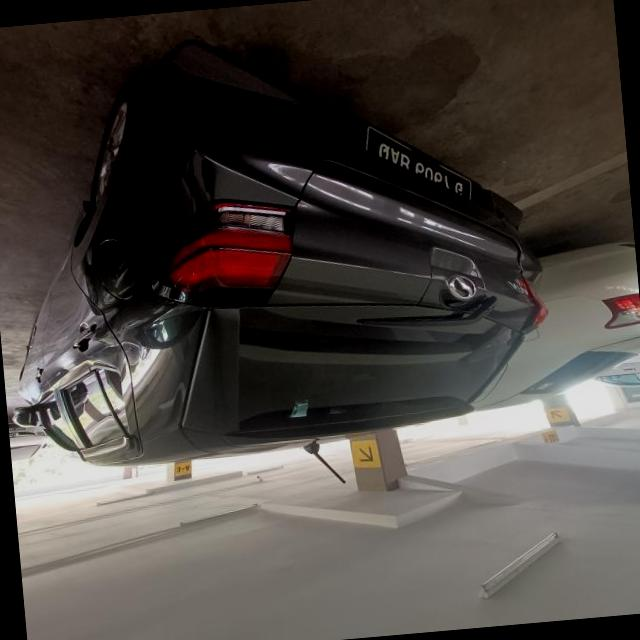PeroduaAxia: (0, 11, 561, 479)
